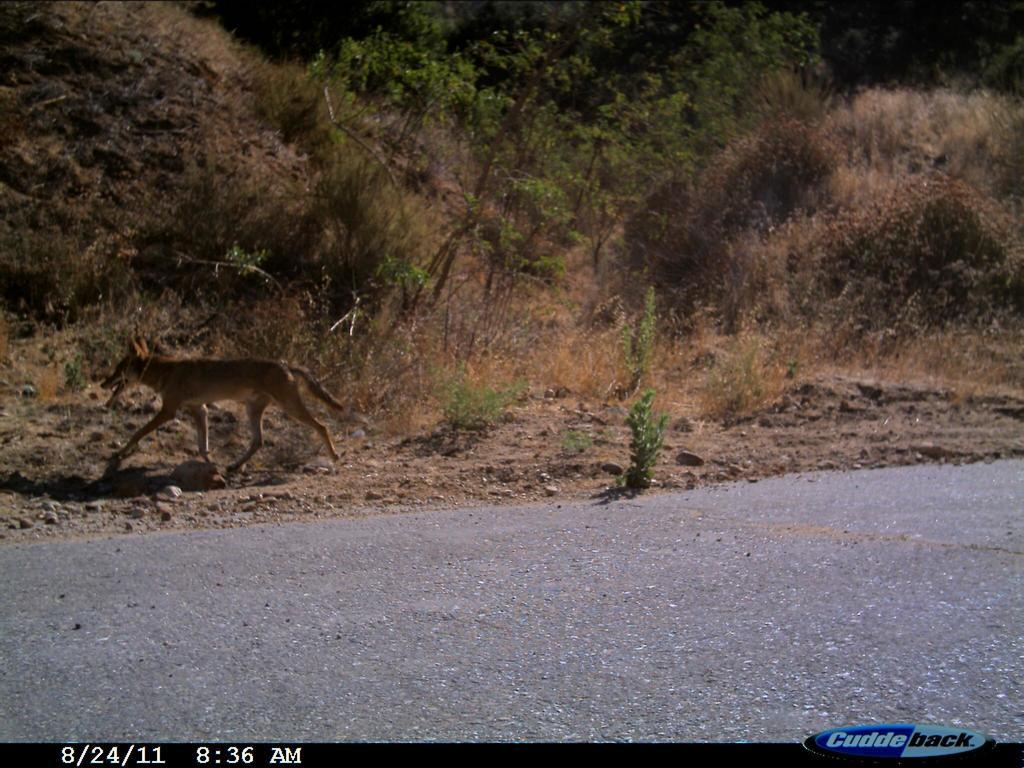coyote: (93, 321, 353, 479)
